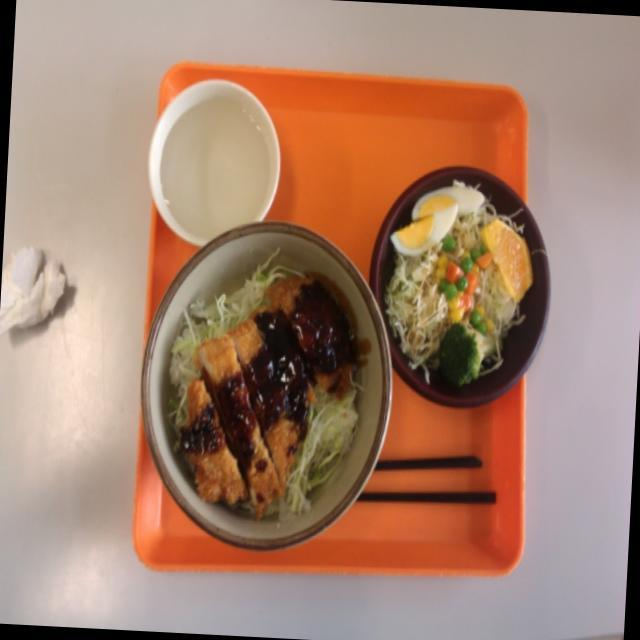Green Salad: (378, 174, 545, 386)
